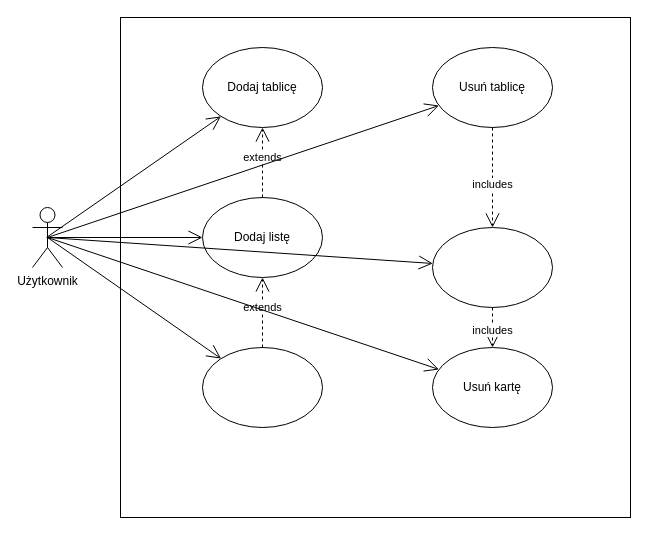
Image size: 648x535. Some labels were removed from this diagram. Each missing label, with the box of its shape:
Dodaj kartę: (202, 346, 322, 428)
Usuń listę: (432, 226, 552, 308)
